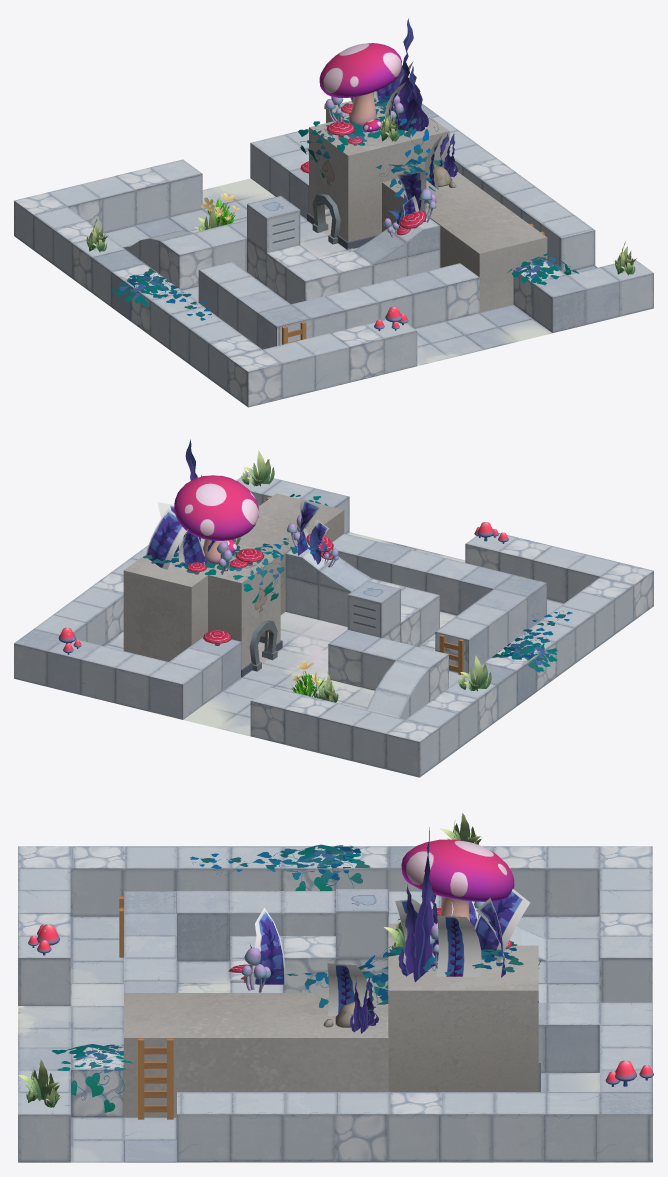
Rendered from maze_01.FBX.
3 views of the same model, one above another, from view 1: azimuth 30°, elevation 25°; view 2: azimuth 150°, elevation 25°; view 3: azimuth 270°, elevation 25° (orthographic). The views are drawn at different scales.
Visible parts, largest first — view 1: we12, House (×2), we10, back034, move element, Plane013, Plane133, Plane046, Plane012, Plane044, Plane052, Plane043 (+2 smaller); view 2: we12, House (×2), we10, back034, move element, Plane062, Plane013, Plane012, Plane044, Plane061, Plane052; view 3: we12, House (×2), we10, back034, move element, Plane050, Plane012, Plane061, Plane052, Plane133, Plane137, Plane046 (+5 smaller).
Boxes of the visible parts, <box> form: we12: <box>14,103,653,407</box>; House (×2): <box>307,101,547,312</box>; we10: <box>21,178,652,407</box>; back034: <box>319,43,401,125</box>; move element: <box>247,196,300,285</box>; Plane013: <box>298,112,404,178</box>; Plane133: <box>507,253,578,285</box>; Plane046: <box>391,18,428,126</box>; Plane012: <box>115,268,217,320</box>; Plane044: <box>111,272,173,306</box>; Plane052: <box>398,171,426,211</box>; Plane043: <box>341,96,438,162</box>; we12: <box>14,472,653,777</box>; House (×2): <box>123,493,344,677</box>; we10: <box>15,532,638,777</box>; back034: <box>174,475,258,563</box>; move element: <box>347,580,400,642</box>; Plane062: <box>146,508,186,569</box>; Plane013: <box>202,545,284,603</box>; Plane012: <box>492,611,572,672</box>; Plane044: <box>500,638,557,671</box>; Plane061: <box>178,529,205,570</box>; Plane052: <box>297,498,322,556</box>; we12: <box>18,846,652,1162</box>; House (×2): <box>124,923,540,1117</box>; we10: <box>18,916,652,1162</box>; back034: <box>401,839,514,921</box>; move element: <box>336,889,388,992</box>; Plane050: <box>436,915,481,976</box>; Plane012: <box>190,846,370,883</box>; Plane061: <box>474,889,530,962</box>; Plane052: <box>247,907,285,984</box>; Plane133: <box>52,1044,132,1112</box>; Plane137: <box>327,963,369,1015</box>; Plane046: <box>413,827,435,982</box>.
Size of the model in its own units: 4200 by 1983 by 3993.
